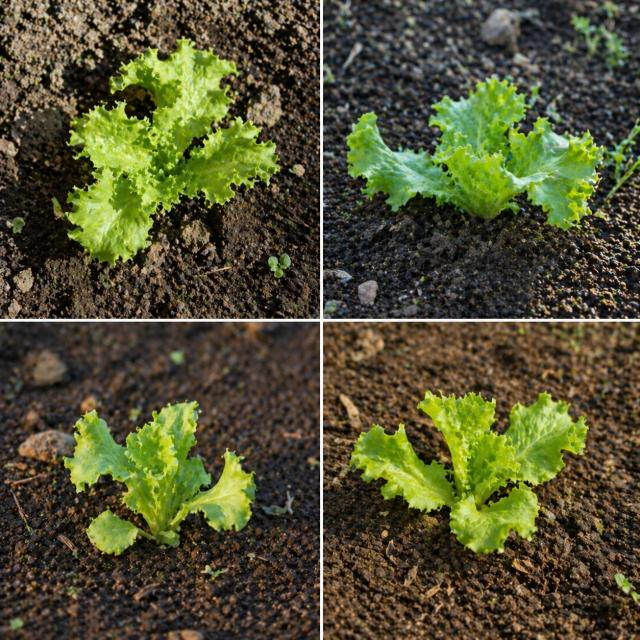inmadura: (64, 39, 279, 266), (350, 391, 588, 553), (347, 78, 602, 229)
verde: (63, 402, 255, 554)
